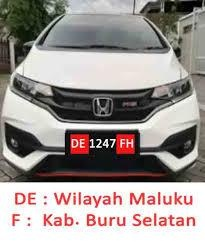plate: (68, 132, 137, 155)
